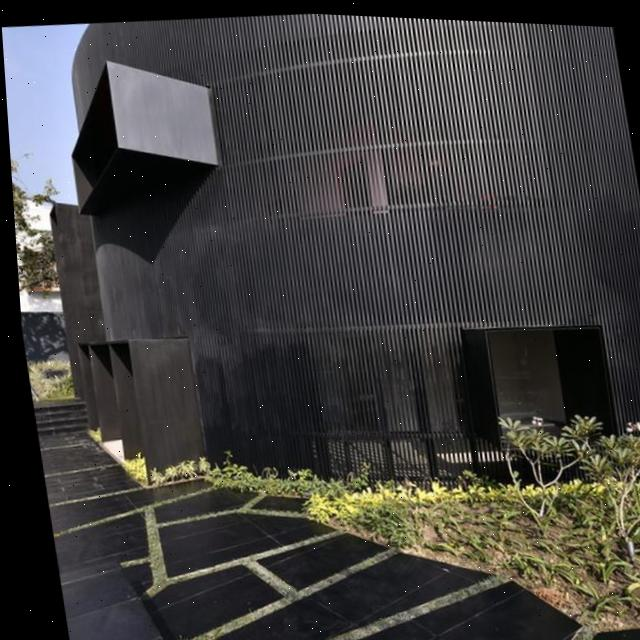building: (20, 1, 640, 532)
